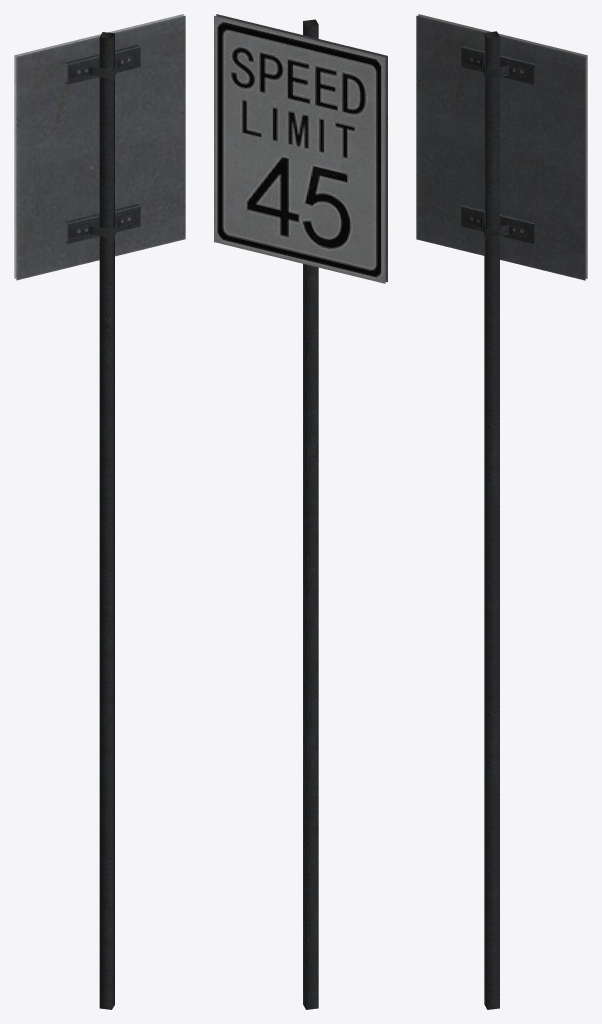
The model's file is Speed_Limit_-_45_mph.glb.
3 views of the same model, side by side, from view 1: azimuth 30°, elevation 25°; view 2: azimuth 150°, elevation 25°; view 3: azimuth 330°, elevation 25° (orthographic).
Visible parts, largest first — view 1: Speed_Limit_45mph__LOD1; view 2: Speed_Limit_45mph__LOD1; view 3: Speed_Limit_45mph__LOD1.
Boxes of the visible parts, box(x1,y1,x2,y2) form: Speed_Limit_45mph__LOD1: box(14, 14, 185, 1009); Speed_Limit_45mph__LOD1: box(214, 14, 387, 1009); Speed_Limit_45mph__LOD1: box(416, 14, 587, 1009).
Bounding box in the file's own units: 0.546 × 2.99 × 0.0909.
1 material, 1 textured.
